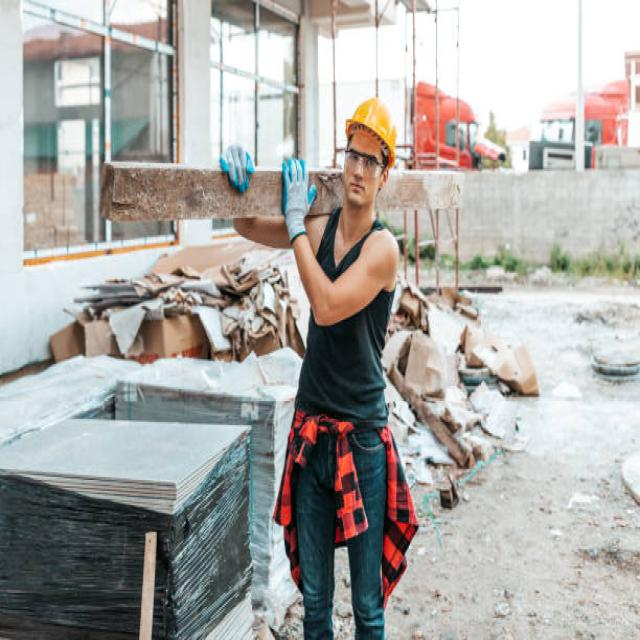Gloves: (278, 150, 320, 248), (218, 138, 262, 196)
helmet: (344, 97, 399, 169)
person: (218, 97, 421, 640)
